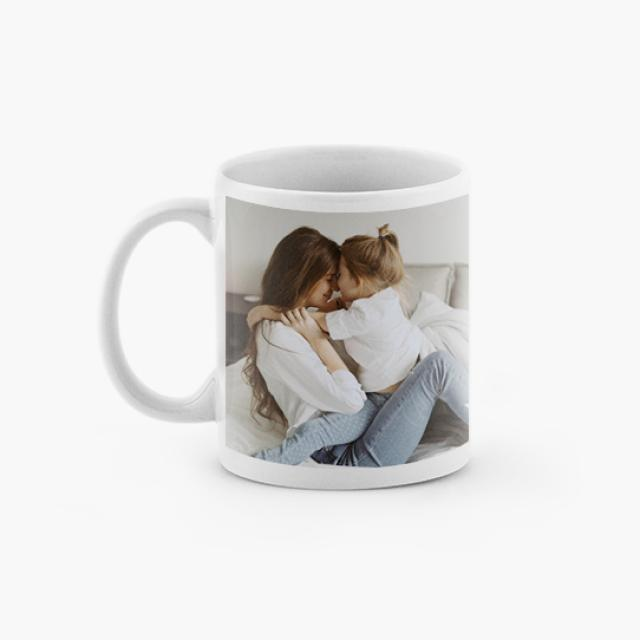Coffee Mug: (96, 143, 472, 489)
